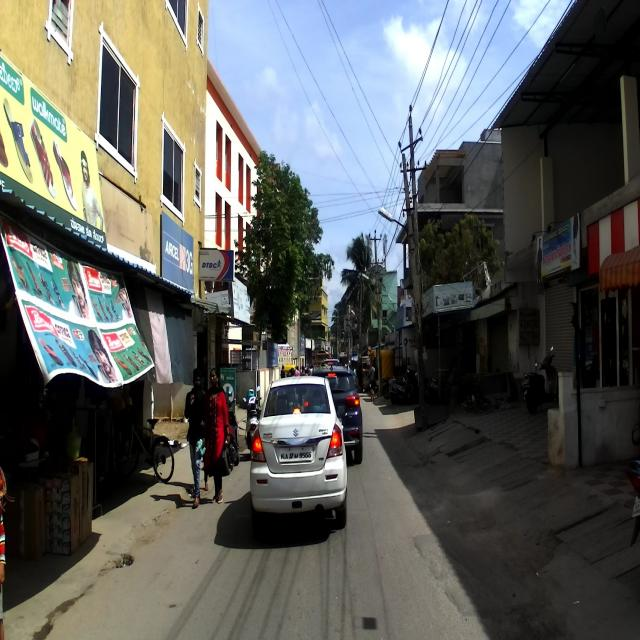car: (249, 374, 347, 540)
scooter: (520, 344, 559, 416)
